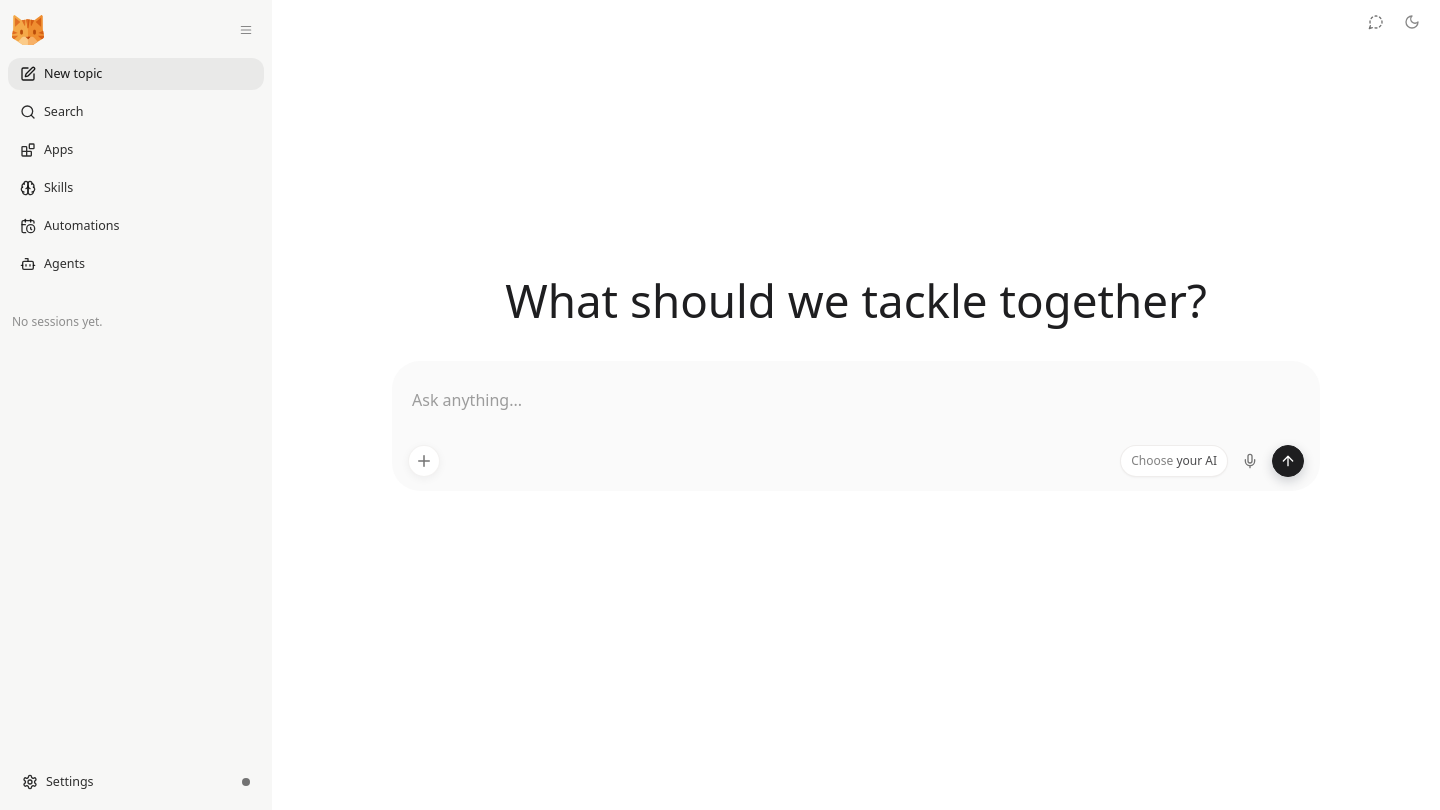
Test case: App layout › opens the full Models settings directly from the first-run prompt
Click the button "Choose your AI": (1174, 461) top-left (1120, 445), bottom-right (1228, 477)
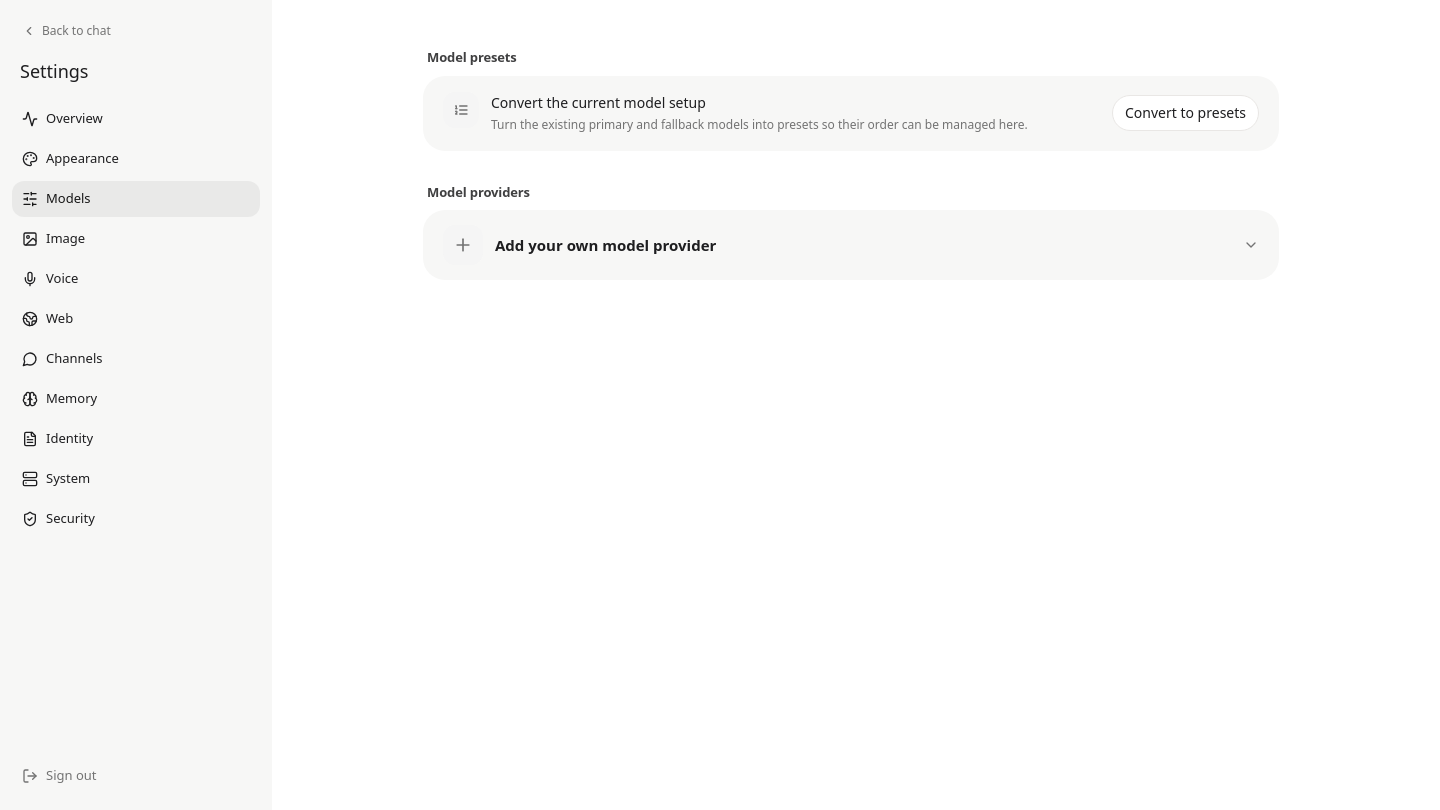
Check: the navigation bar named "Settings sections" is shown, box top-left (12, 101), bottom-right (260, 537)
Check: the heading "Model providers" is shown, box top-left (427, 182), bottom-right (530, 200)
Check: the button "Add your own model provider" is shown, box top-left (423, 210), bottom-right (1279, 280)
